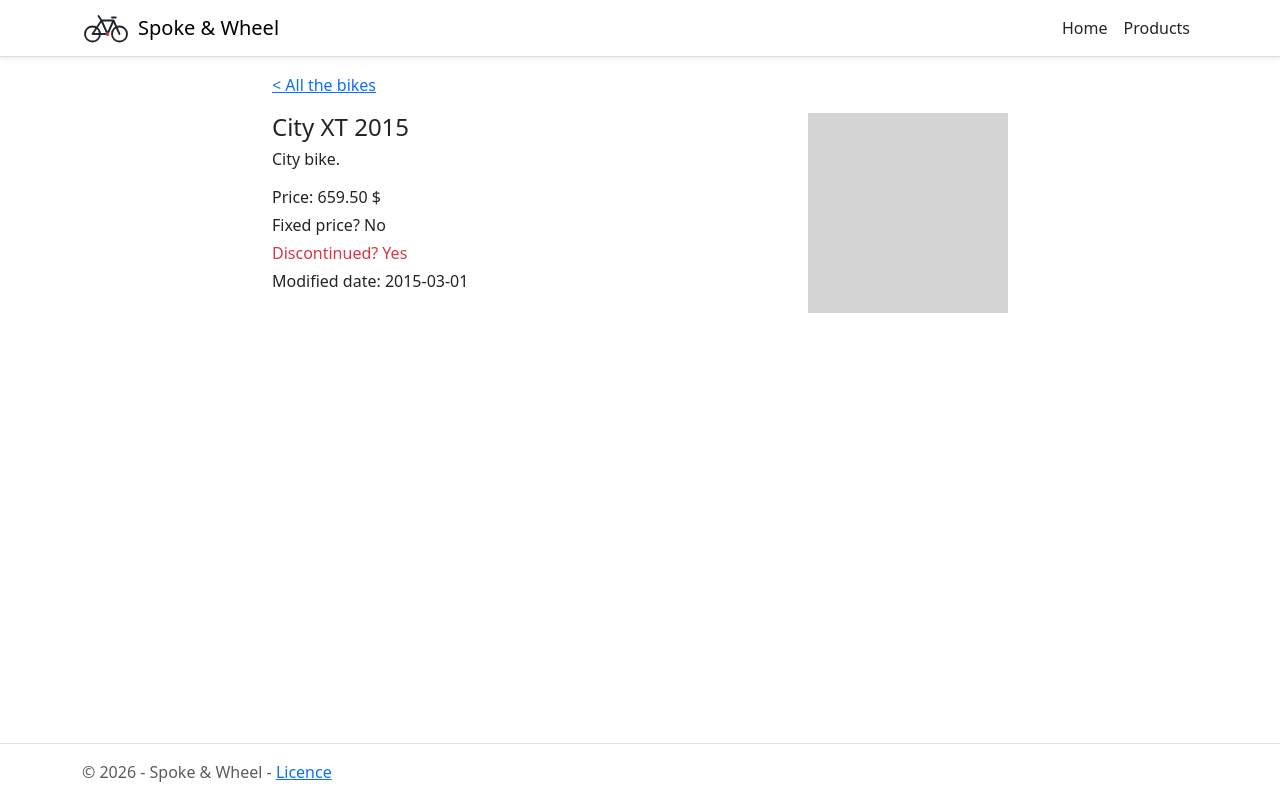
App › the back link of a product page returns to the catalogue
Expected: the heading with test id "detail-name" reads "City XT 2015", x1=272 y1=110 x2=409 y2=143
Click the link with test id "back".
click(324, 85)  # box x1=272 y1=74 x2=376 y2=96
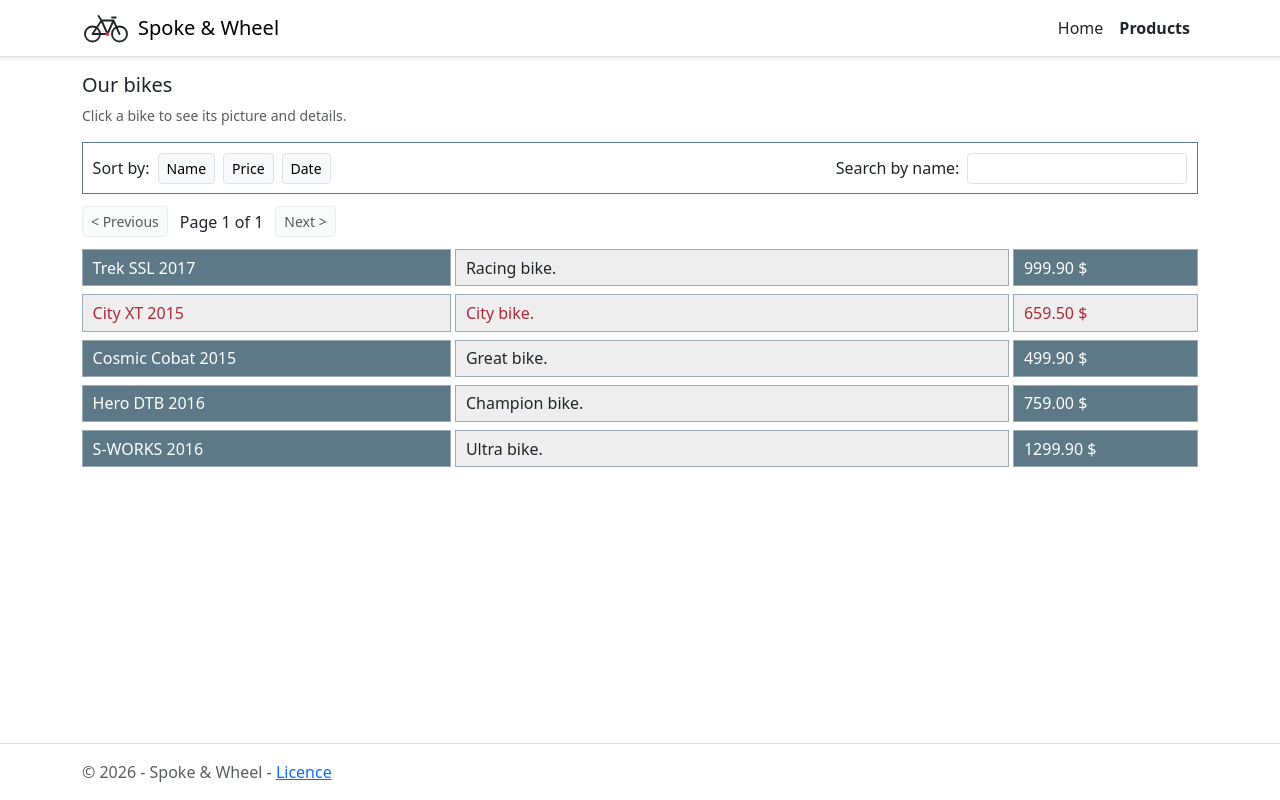
Expected: the number of buttons with test id "product" is 5, x1=82 y1=249 x2=1198 y2=286; x1=82 y1=294 x2=1198 y2=332; x1=82 y1=340 x2=1198 y2=377; x1=82 y1=385 x2=1198 y2=422; x1=82 y1=430 x2=1198 y2=467
